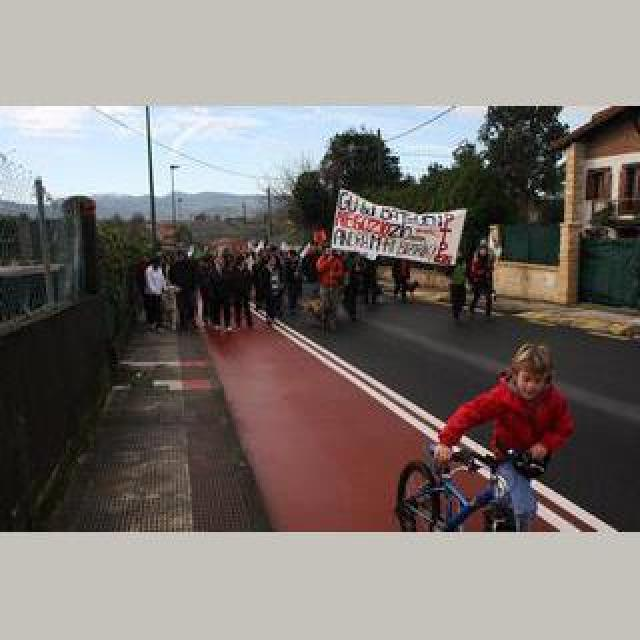MC-Bike: (432, 344, 576, 526), (314, 246, 346, 330), (166, 248, 196, 334), (466, 238, 496, 320), (220, 250, 248, 332), (204, 252, 230, 330), (142, 254, 166, 332), (192, 250, 214, 330), (446, 252, 470, 322), (284, 250, 304, 316)
Person: (393, 440, 545, 530)
